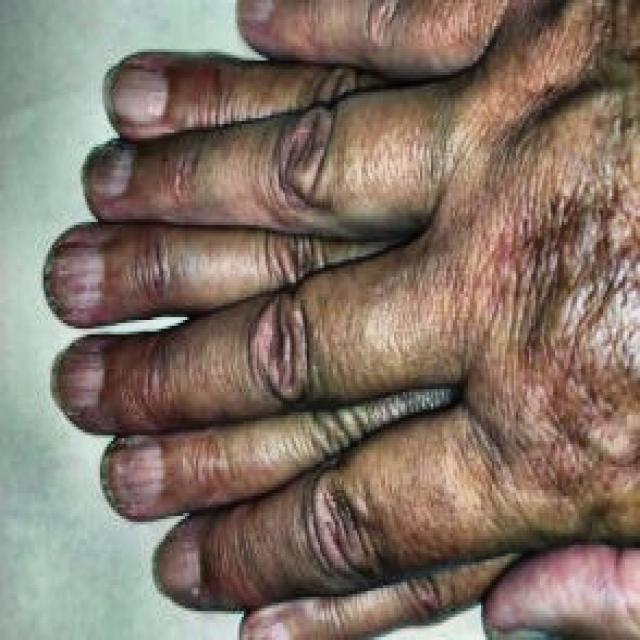Psoriasis-pictures-Lichen-Planus: (69, 47, 631, 546)
